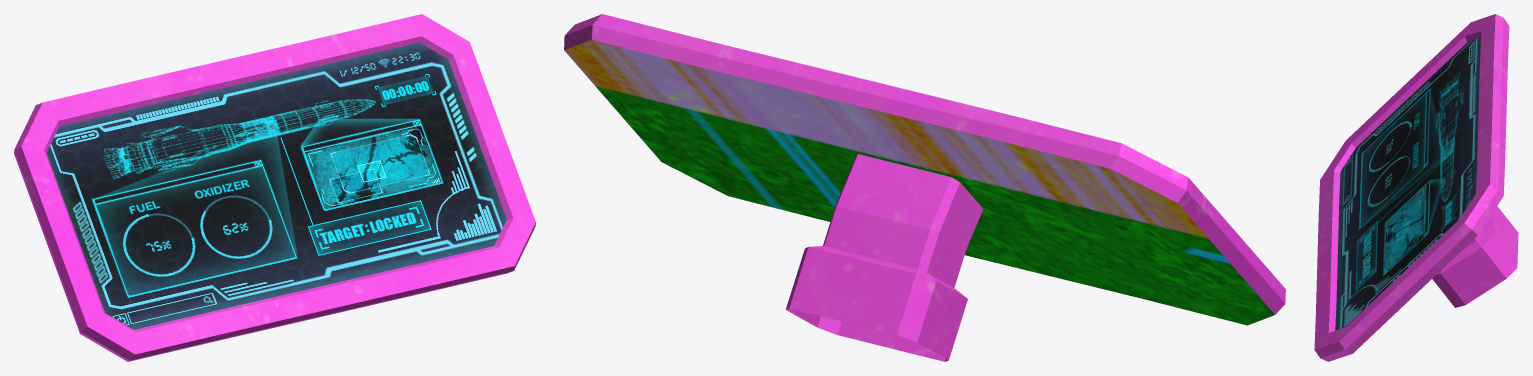
File: ConsoleMonitor_02_SM_Low.fbx
3 renders of one model, left to right at view 1: azimuth 30°, elevation 25°; view 2: azimuth 150°, elevation 25°; view 3: azimuth 270°, elevation 25°, orthographic. The views are drawn at different scales.
Visible parts, largest first — view 1: tabletSmallMain; view 2: tabletSmallMain; view 3: tabletSmallMain.
Part boxes in pixels (<box>): tabletSmallMain: <box>14,14,535,361</box>; tabletSmallMain: <box>564,14,1285,361</box>; tabletSmallMain: <box>1314,14,1518,361</box>.
Bounding box in the file's own units: 53.77 × 23.73 × 22.79.
